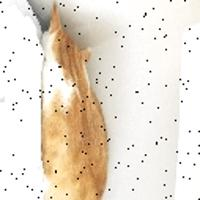asleep: (40, 0, 108, 200)
